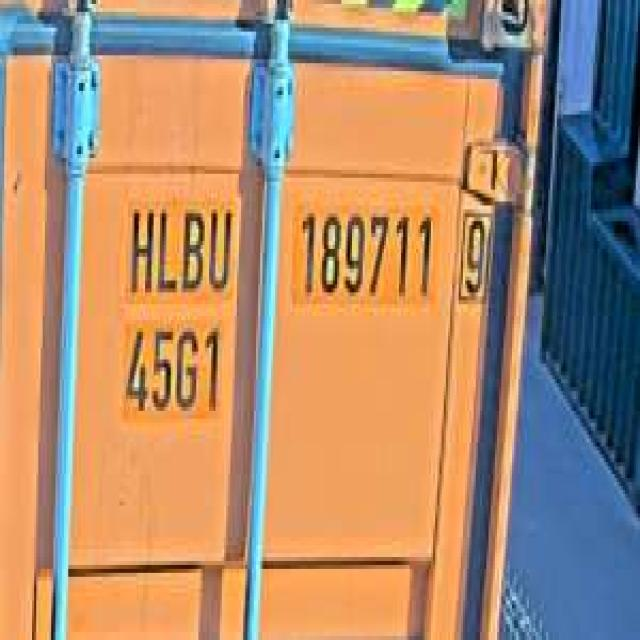dv: (454, 198, 495, 312)
owner: (123, 194, 234, 300)
serial: (294, 198, 436, 312)
size: (119, 316, 224, 423)
